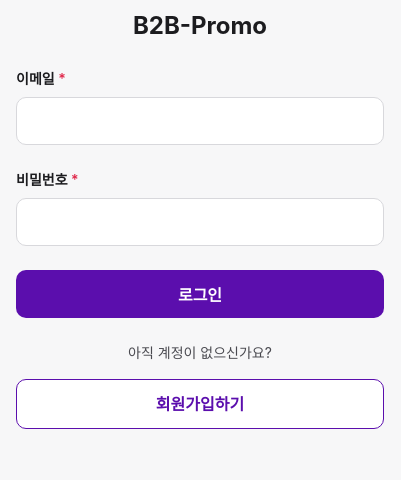
Test: login failure renders the exact Korean error message and stays on LoginPage
Type "partner@example.com" into the field labelled "이메일 *" at {"x": 200, "y": 121}, box [16,97,384,145]
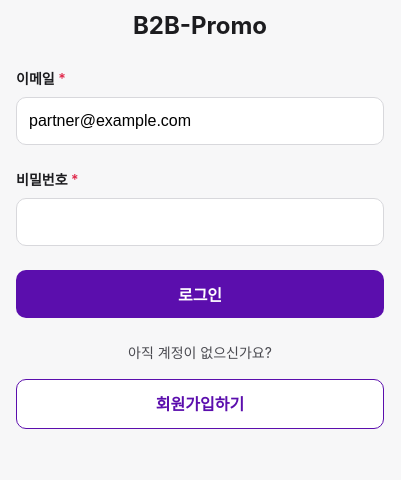
Type "wrong-pw" into the password field labelled "비밀번호 *" at {"x": 200, "y": 222}, box [16,198,384,246]
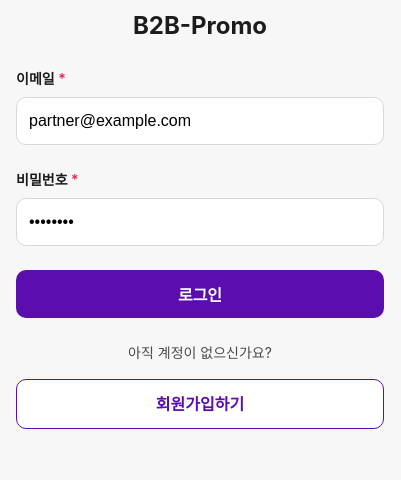
Click the button "로그인" at {"x": 200, "y": 294}, box [16,270,384,318]
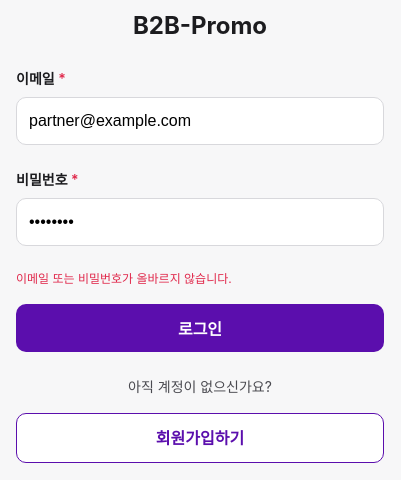
Now the text "이메일 또는 비밀번호가 올바르지 않습니다." is shown, box [16,271,232,286]
